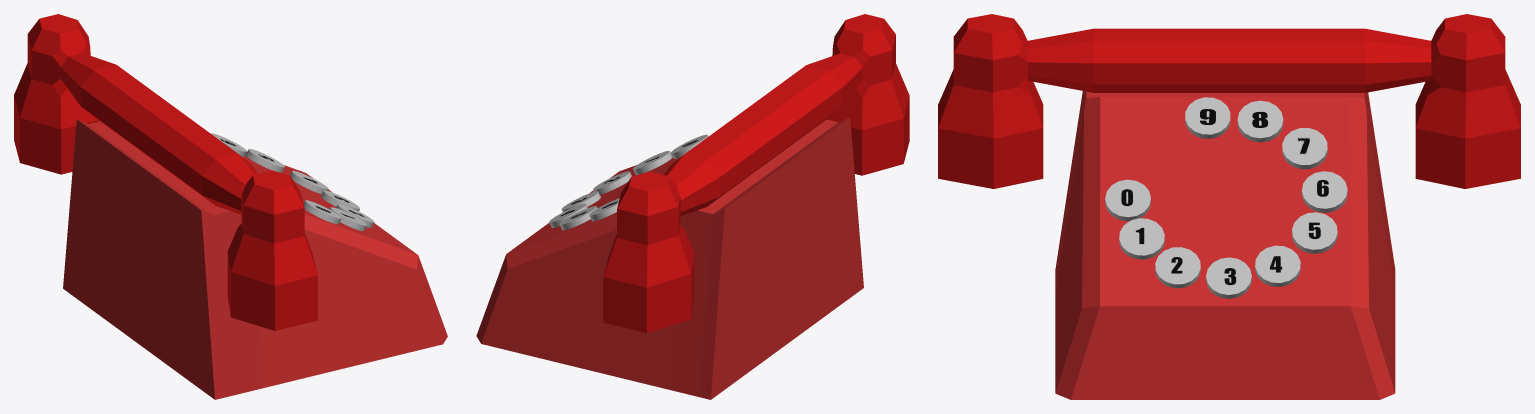
Rendered from phone.fbx.
3 views of the same model, side by side, from view 1: azimuth 30°, elevation 25°; view 2: azimuth 150°, elevation 25°; view 3: azimuth 270°, elevation 25° (orthographic). The views are drawn at different scales.
Parts seen in each view (by area): view 1: pCube22; view 2: pCube22; view 3: pCube22.
Boxes of the visible parts, <box> form: pCube22: <box>14,14,447,399</box>; pCube22: <box>476,14,909,399</box>; pCube22: <box>938,14,1520,399</box>.
Bounding box in the file's own units: 9.37 × 8.32 × 16.83.
